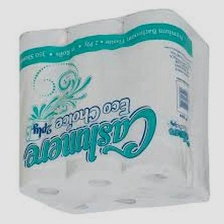tissue: (11, 3, 216, 219)
